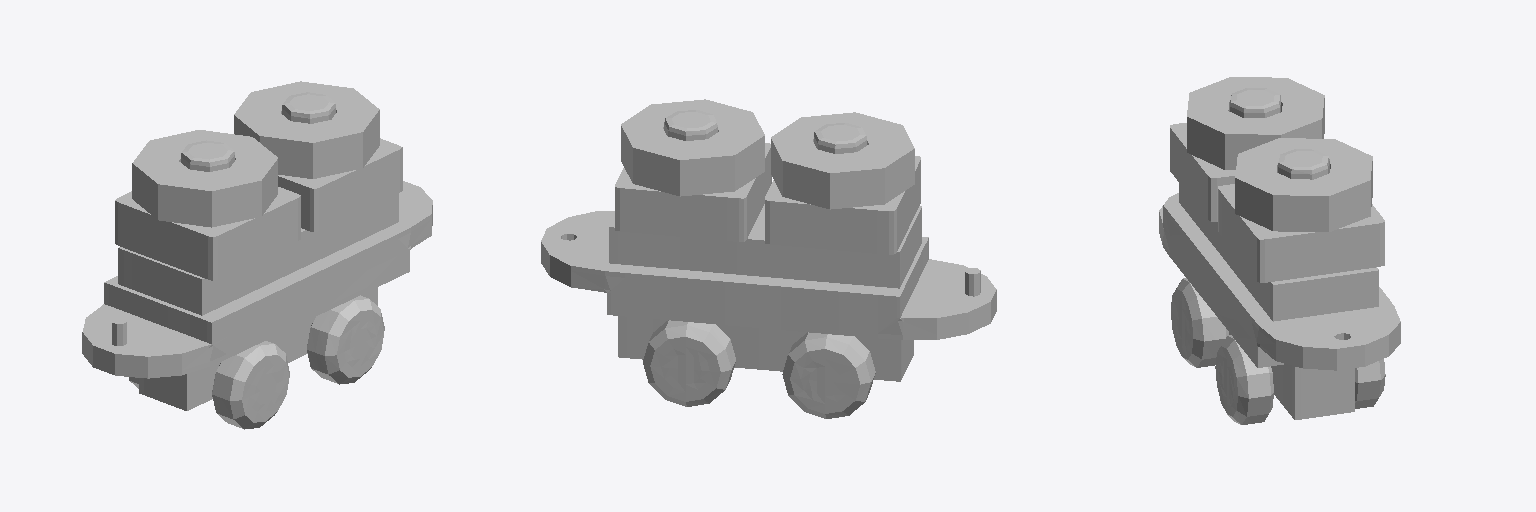
Rendered from Vagao_de_Brinquedo.obj.
The picture shows the model from 3 angles: view 1: azimuth 30°, elevation 25°; view 2: azimuth 150°, elevation 25°; view 3: azimuth 270°, elevation 25°; orthographic projection.
Parts seen in each view (by area): view 1: Toy_Train:train_car2; view 2: Toy_Train:train_car2; view 3: Toy_Train:train_car2.
Boxes of the visible parts, box(x1,y1,x2,y2) form: Toy_Train:train_car2: box(82, 81, 432, 429); Toy_Train:train_car2: box(541, 99, 996, 418); Toy_Train:train_car2: box(1159, 77, 1400, 424).
Bounding box in the file's own units: 0.3061 × 0.1952 × 0.1662.